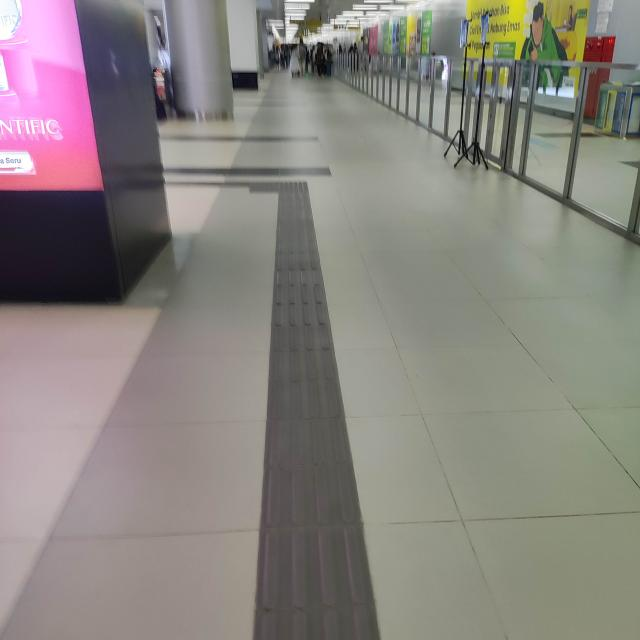kiri: (210, 168, 320, 209)
